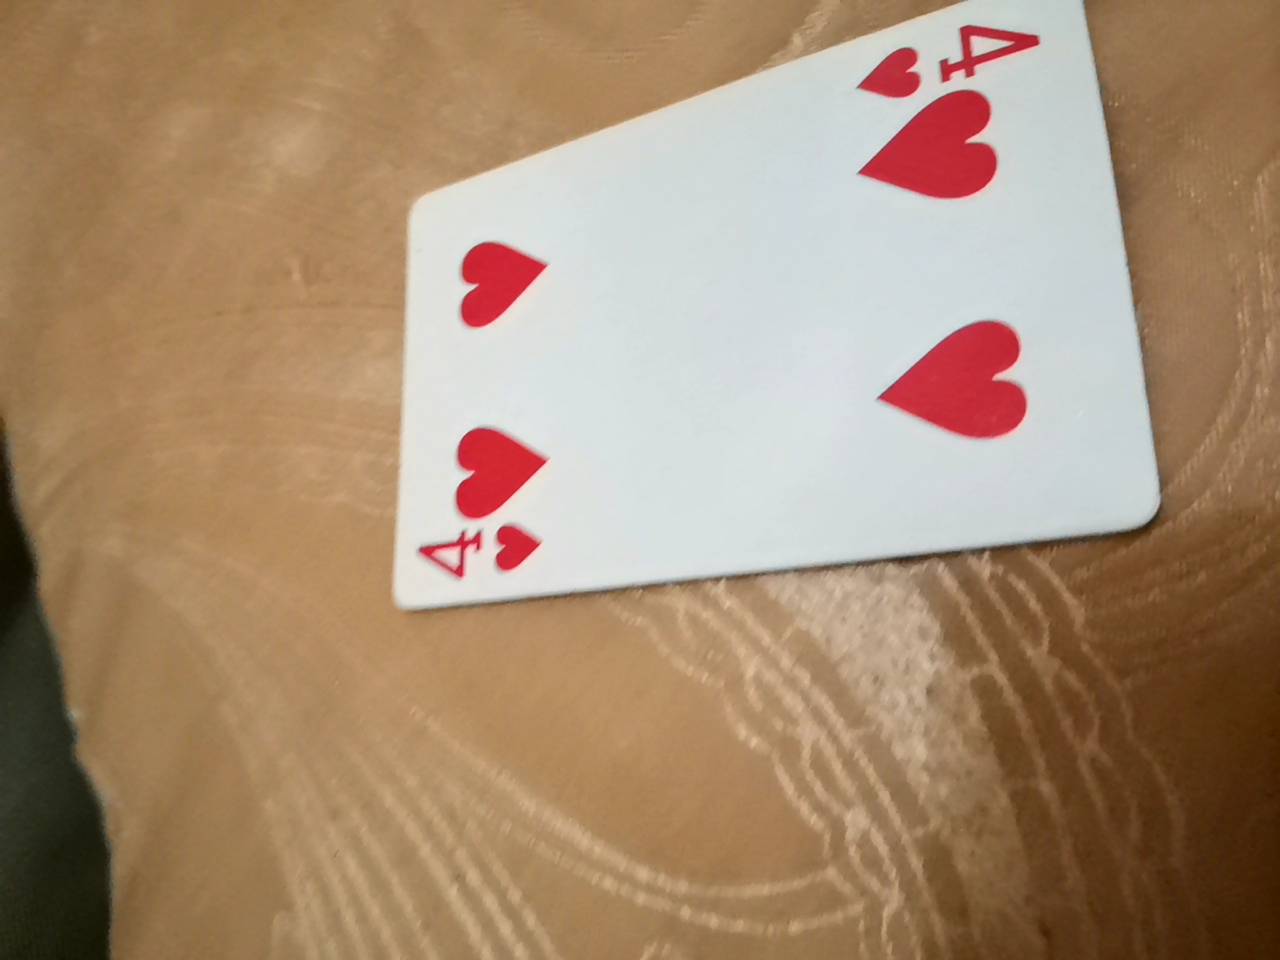hx 4: (399, 0, 1192, 511)
